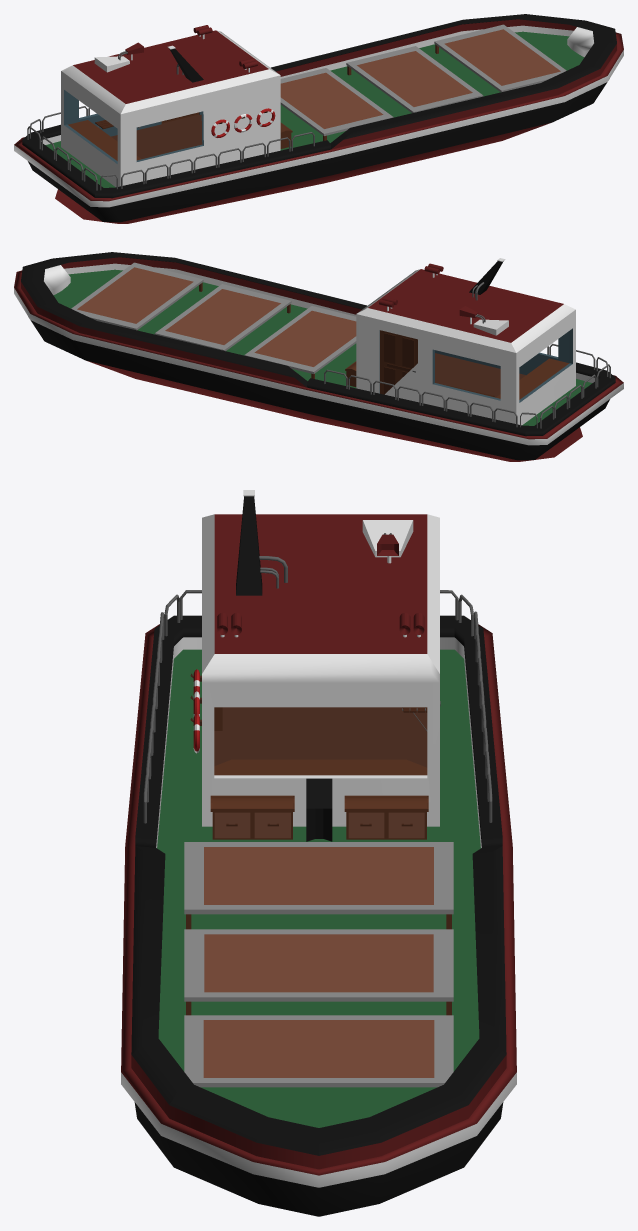
The model's file is AuraFinalBoat.fbx.
The picture shows the model from 3 angles, top to bottom: view 1: azimuth 30°, elevation 25°; view 2: azimuth 150°, elevation 25°; view 3: azimuth 270°, elevation 25°; orthographic projection. The views are drawn at different scales.
Visible parts, largest first — view 1: pCube89; view 2: pCube89; view 3: pCube89.
Boxes of the visible parts, bbox=[...] form: pCube89: bbox=[14, 14, 623, 223]; pCube89: bbox=[14, 252, 623, 461]; pCube89: bbox=[121, 490, 516, 1216].
Size of the model in its own units: 11.99 by 3.31 by 3.61.
